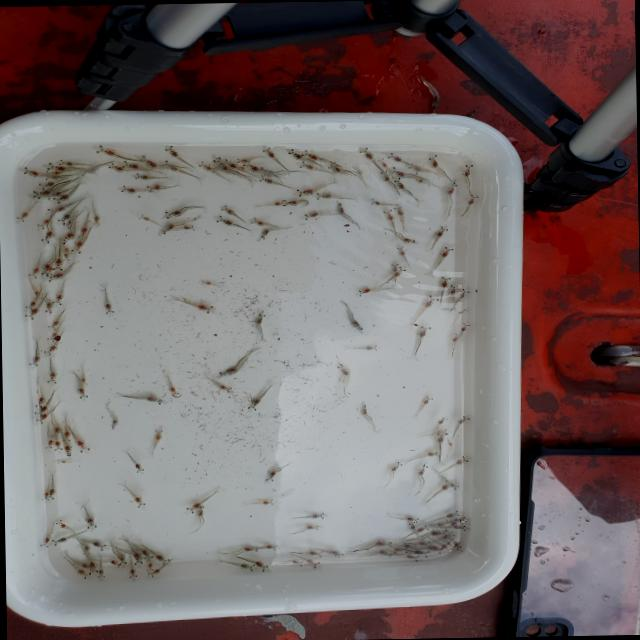babyshrimp: (332, 358, 350, 378), (88, 143, 115, 156), (419, 291, 438, 309), (12, 165, 40, 177), (196, 277, 225, 288), (138, 153, 159, 168), (215, 364, 239, 377), (181, 499, 203, 513), (161, 142, 179, 158), (257, 143, 275, 159), (38, 161, 66, 171), (192, 301, 215, 313), (347, 317, 364, 333), (246, 395, 262, 412), (299, 148, 321, 160), (73, 437, 89, 453), (455, 284, 470, 301), (249, 310, 266, 325), (160, 207, 183, 218), (283, 146, 301, 160), (150, 424, 164, 442), (195, 161, 214, 174), (413, 459, 428, 475), (68, 238, 84, 253), (438, 241, 453, 257), (83, 513, 96, 531), (143, 394, 166, 404), (453, 453, 472, 465), (440, 478, 459, 490), (302, 556, 321, 568), (386, 458, 402, 472), (454, 411, 470, 425), (39, 229, 53, 245), (425, 151, 439, 167), (390, 263, 406, 277), (51, 192, 71, 203), (389, 165, 407, 177), (27, 352, 41, 367), (44, 271, 65, 281), (29, 189, 50, 199), (130, 460, 145, 474), (23, 305, 39, 318), (325, 160, 341, 173), (252, 559, 269, 571), (74, 567, 91, 579), (45, 368, 57, 385), (156, 222, 173, 234), (375, 547, 395, 557), (258, 166, 276, 177), (214, 214, 232, 225), (103, 298, 114, 316), (33, 411, 47, 425), (132, 494, 145, 509), (14, 208, 29, 221), (391, 176, 406, 189), (381, 207, 394, 222), (153, 552, 169, 564), (31, 404, 47, 416), (75, 384, 87, 400), (58, 231, 74, 243), (222, 157, 238, 169), (143, 182, 162, 192), (353, 286, 372, 296), (115, 184, 136, 193), (385, 151, 402, 162), (372, 539, 395, 547), (438, 477, 452, 490), (50, 291, 63, 305), (255, 227, 269, 240), (417, 321, 429, 336), (49, 535, 67, 545), (45, 317, 60, 329), (23, 297, 38, 309), (25, 265, 40, 277), (33, 217, 48, 229), (294, 186, 314, 195), (298, 210, 318, 219), (461, 162, 473, 177), (444, 179, 456, 194), (404, 162, 422, 172), (87, 559, 98, 575), (90, 539, 106, 550), (55, 212, 71, 223), (44, 204, 66, 212), (161, 159, 177, 170), (218, 203, 234, 214), (388, 259, 399, 275), (44, 189, 63, 198), (35, 180, 54, 189), (56, 157, 75, 166), (442, 508, 459, 518), (105, 161, 122, 171), (120, 158, 137, 168), (216, 383, 233, 393), (48, 423, 61, 436), (391, 201, 404, 214), (438, 274, 450, 288), (38, 535, 52, 547), (433, 224, 447, 236), (51, 255, 62, 270), (215, 162, 230, 173), (333, 199, 344, 214), (236, 561, 254, 570), (400, 553, 420, 561), (409, 548, 429, 556), (130, 171, 150, 179), (248, 216, 264, 226), (457, 319, 470, 331), (130, 552, 142, 565), (33, 394, 45, 407), (61, 216, 74, 228), (434, 413, 448, 424), (139, 549, 153, 560), (42, 344, 56, 355), (76, 224, 87, 238), (257, 173, 272, 183), (361, 343, 379, 351), (62, 442, 71, 458), (43, 298, 52, 314), (433, 431, 446, 442), (420, 393, 433, 404), (39, 261, 50, 274), (263, 470, 276, 481), (43, 169, 63, 176), (368, 196, 382, 206), (232, 156, 249, 164), (400, 235, 417, 243), (146, 567, 161, 576), (108, 558, 123, 567), (247, 164, 262, 173), (308, 511, 327, 518), (44, 330, 56, 341), (378, 168, 389, 180), (54, 518, 67, 528), (327, 549, 343, 557), (424, 449, 442, 456), (427, 529, 448, 535), (298, 160, 312, 169), (448, 331, 458, 343), (414, 523, 429, 531), (450, 515, 470, 521), (60, 429, 70, 441), (90, 213, 100, 225), (109, 417, 119, 429), (195, 504, 205, 516), (450, 524, 467, 531), (315, 191, 332, 198), (447, 281, 456, 294), (404, 514, 418, 522), (96, 567, 104, 581), (282, 198, 298, 205), (136, 212, 150, 220), (257, 497, 273, 504), (127, 566, 137, 577), (394, 244, 404, 255), (304, 523, 322, 529), (304, 550, 322, 556), (52, 438, 61, 450), (359, 400, 366, 415), (288, 558, 303, 565), (242, 544, 259, 550), (115, 553, 125, 563), (32, 288, 42, 298), (376, 156, 386, 166), (46, 487, 53, 501), (54, 456, 67, 463), (80, 544, 89, 554), (39, 490, 48, 500), (43, 437, 51, 448), (263, 543, 277, 549), (269, 199, 283, 205), (182, 223, 196, 229), (144, 561, 153, 570), (78, 376, 87, 385), (456, 307, 467, 314), (405, 520, 414, 528), (446, 438, 453, 445)
